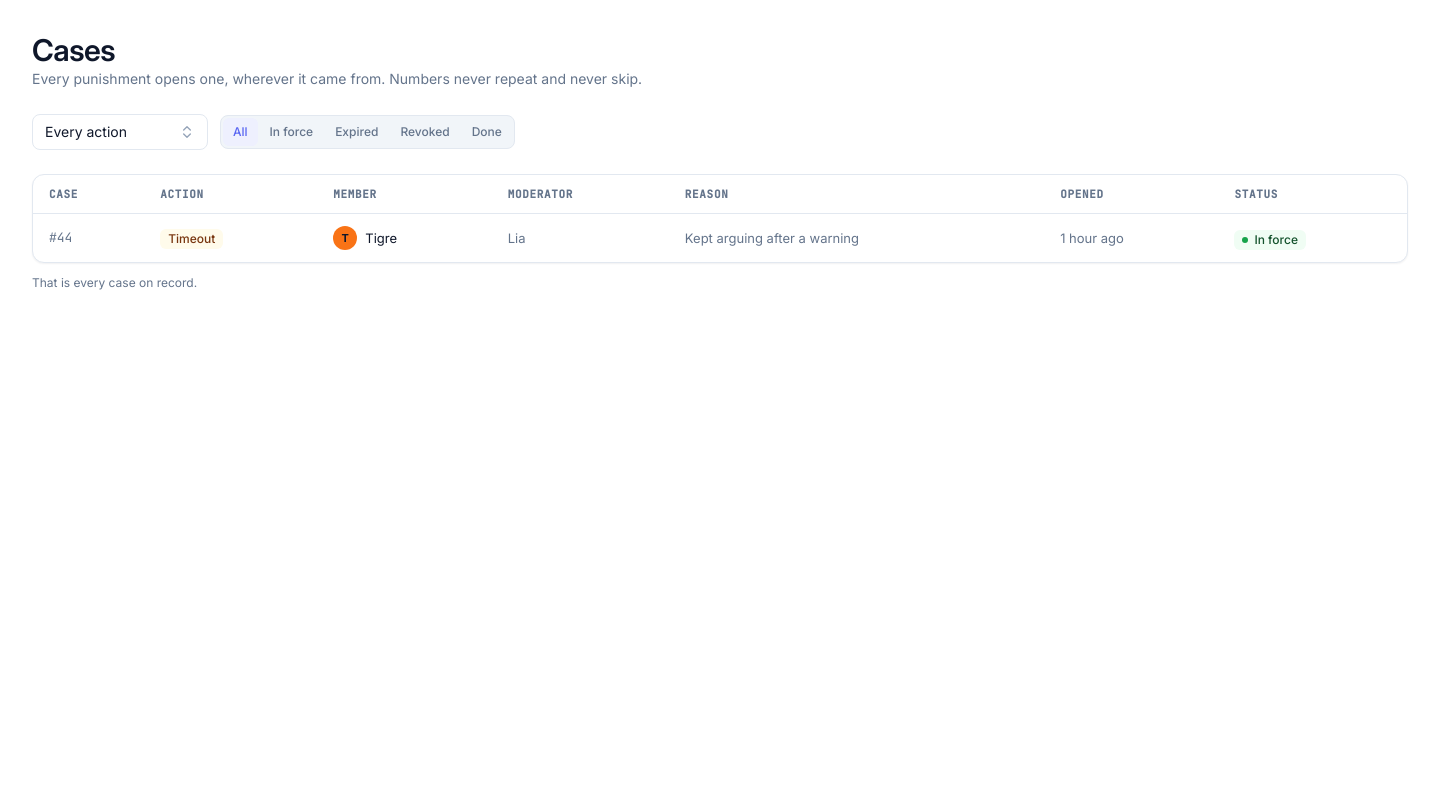
Test: CasesScreen › explains what the status means inside the drawer
Click the button with aria-label "Open case 44" at point(720, 238), box [33,214,1407,262]
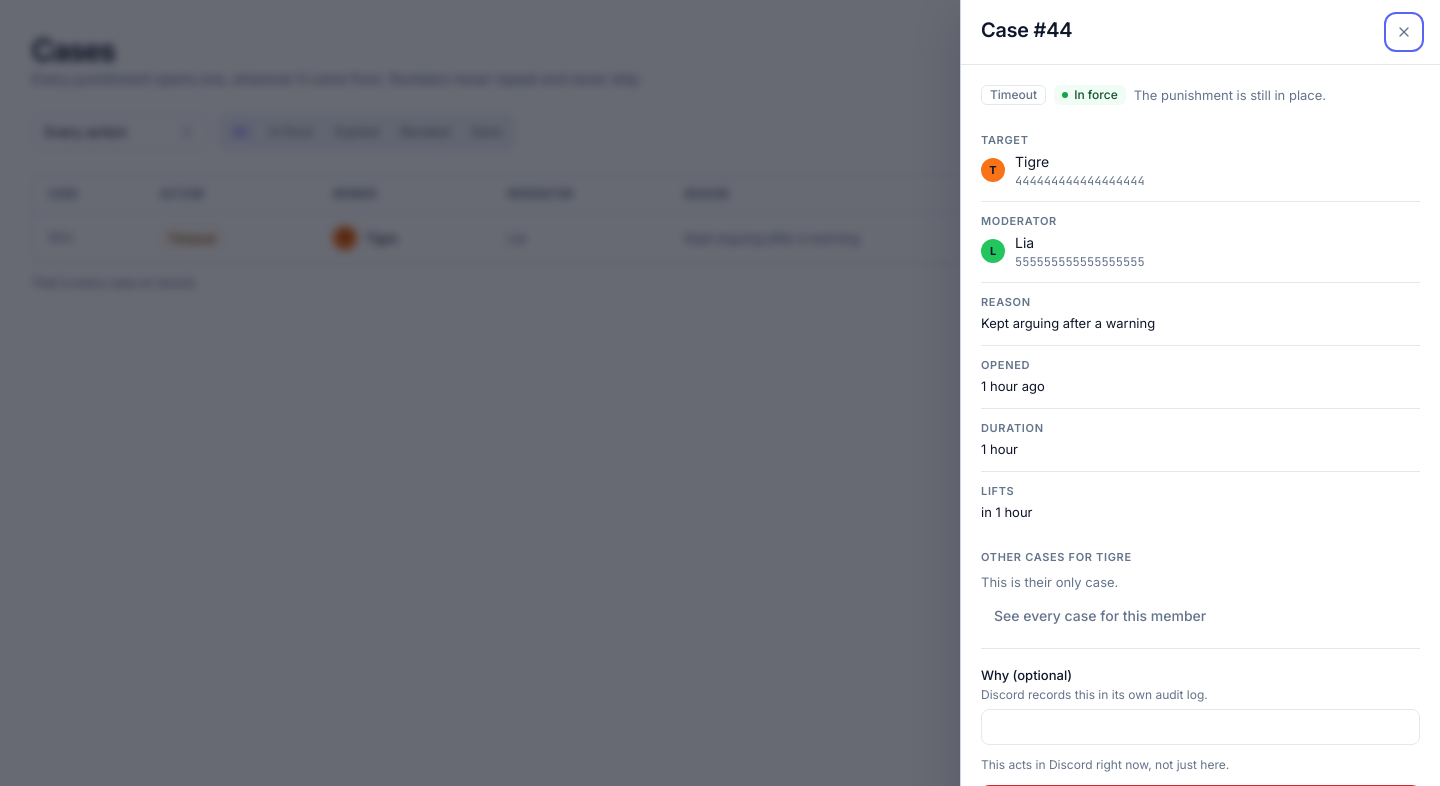
Expected: the text "The punishment is still in place." is shown, [1134,85,1326,105]
